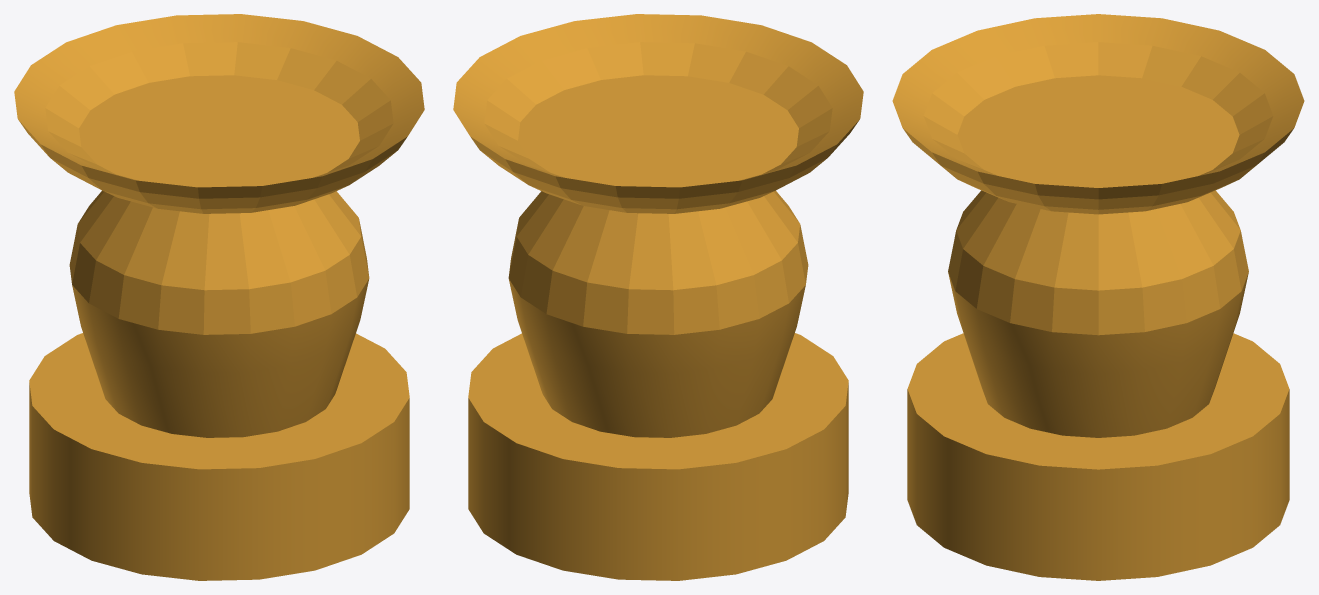
The model's file is FlameSconce.fbx.
3 renders of one model, left to right at view 1: azimuth 30°, elevation 25°; view 2: azimuth 150°, elevation 25°; view 3: azimuth 270°, elevation 25°, orthographic.
Parts seen in each view (by area): view 1: Sconce; view 2: Sconce; view 3: Sconce.
Part boxes in pixels (left/top/right/bottom): Sconce: left=14, top=14, right=424, bottom=580; Sconce: left=453, top=14, right=863, bottom=580; Sconce: left=892, top=14, right=1304, bottom=580.
Bounding box in the file's own units: 6.71 × 7.17 × 6.71.
